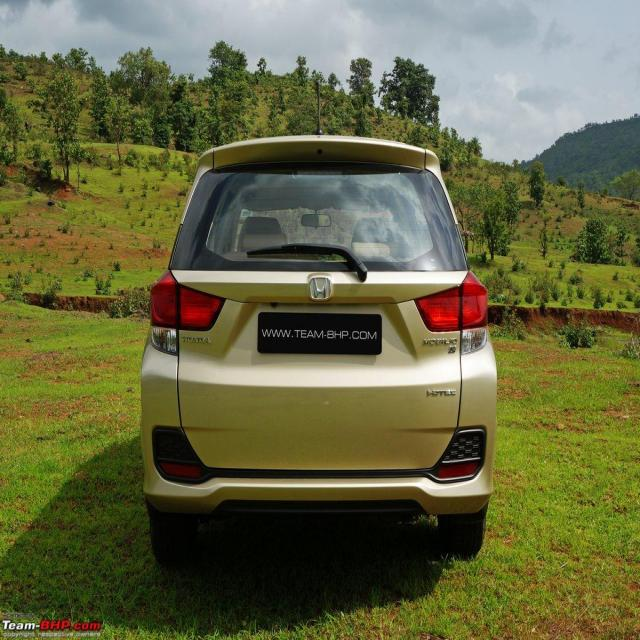Number-Plate: (258, 314, 383, 350)
